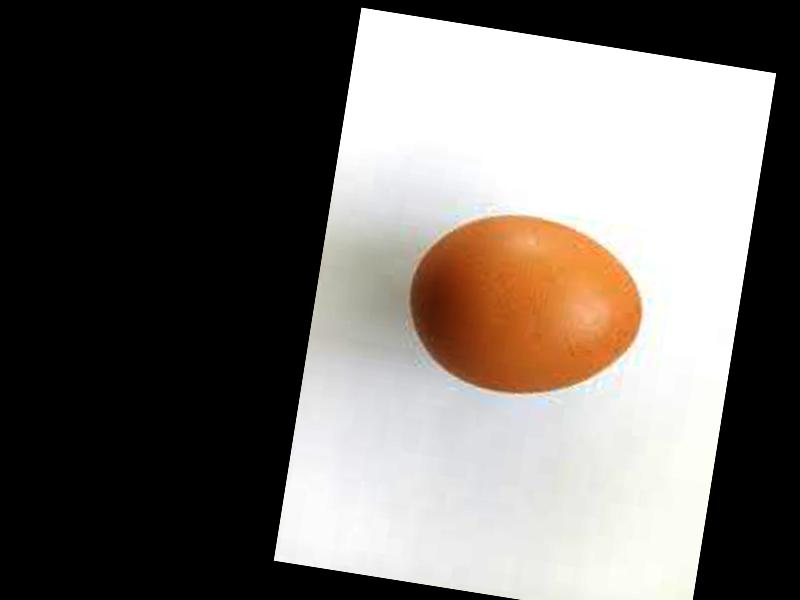Eggs: (394, 201, 657, 413)
